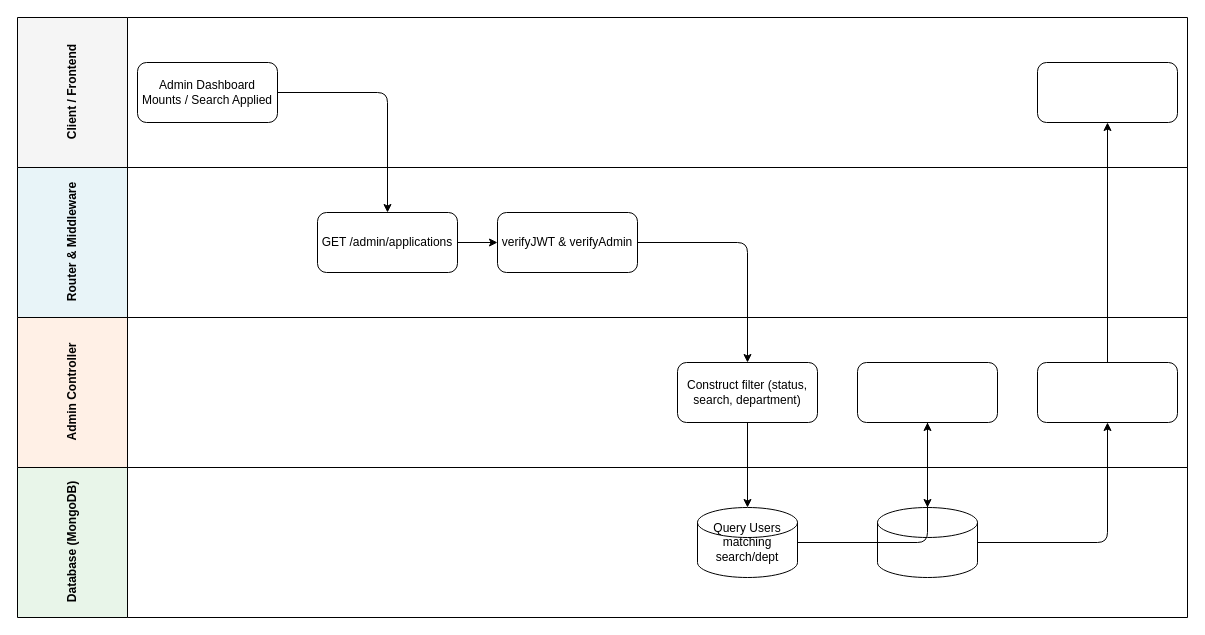
Image size: 1205x635. Some labels were removed from this diagram. Here are the shapes that lost their labels. From the top down, the centre of each, then its label:
At (x=1107, y=92): "Render Application Cards/Table".
At (x=927, y=392): "Apply skip/limit & countDocuments".
At (x=1107, y=392): "HTTP 200 OK with applications list & pagination".
At (x=927, y=542): "Query Applications & Populate User/Verifier".
